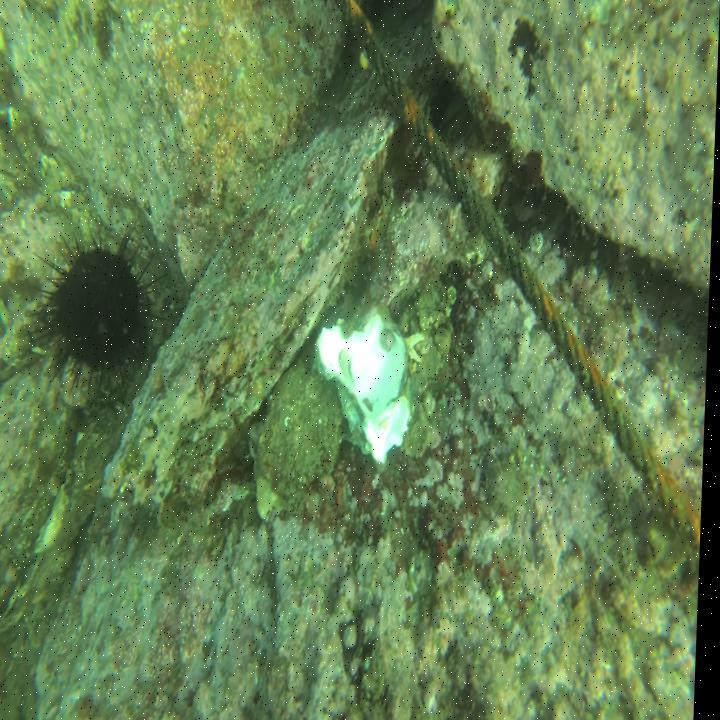echinus: (31, 224, 161, 398)
